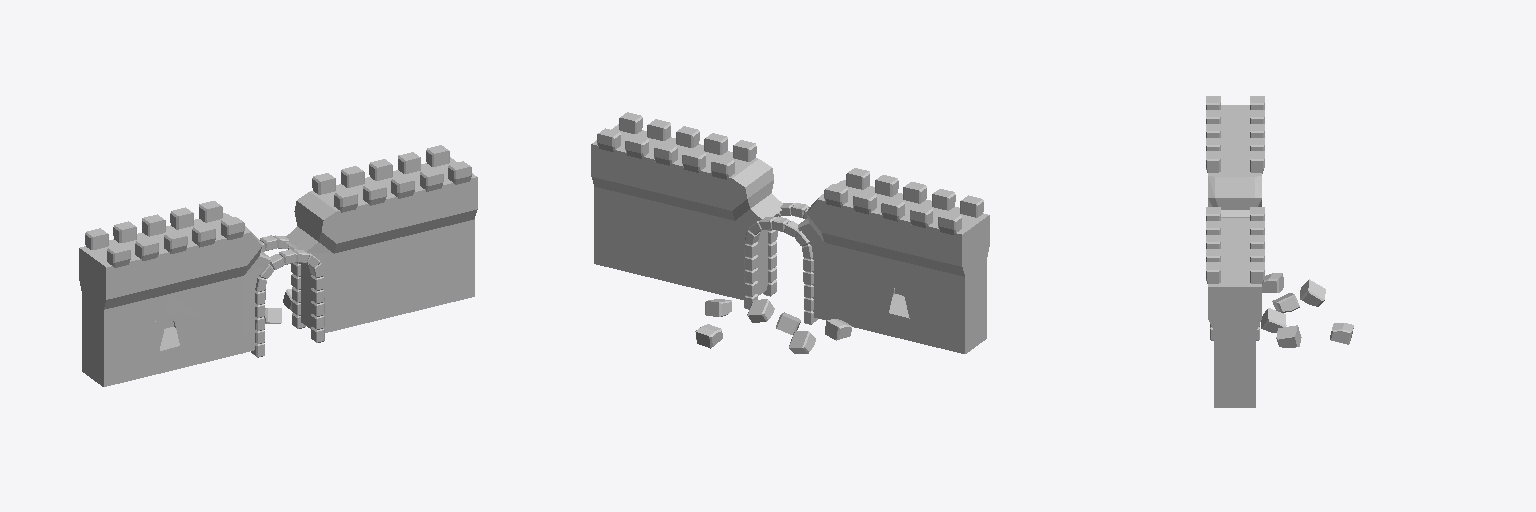
Rendered from castle_broken.obj.
The picture shows the model from 3 angles: view 1: azimuth 30°, elevation 25°; view 2: azimuth 150°, elevation 25°; view 3: azimuth 270°, elevation 25°; orthographic projection.
Bounding box in the file's own units: 28 × 10.56 × 9.73.